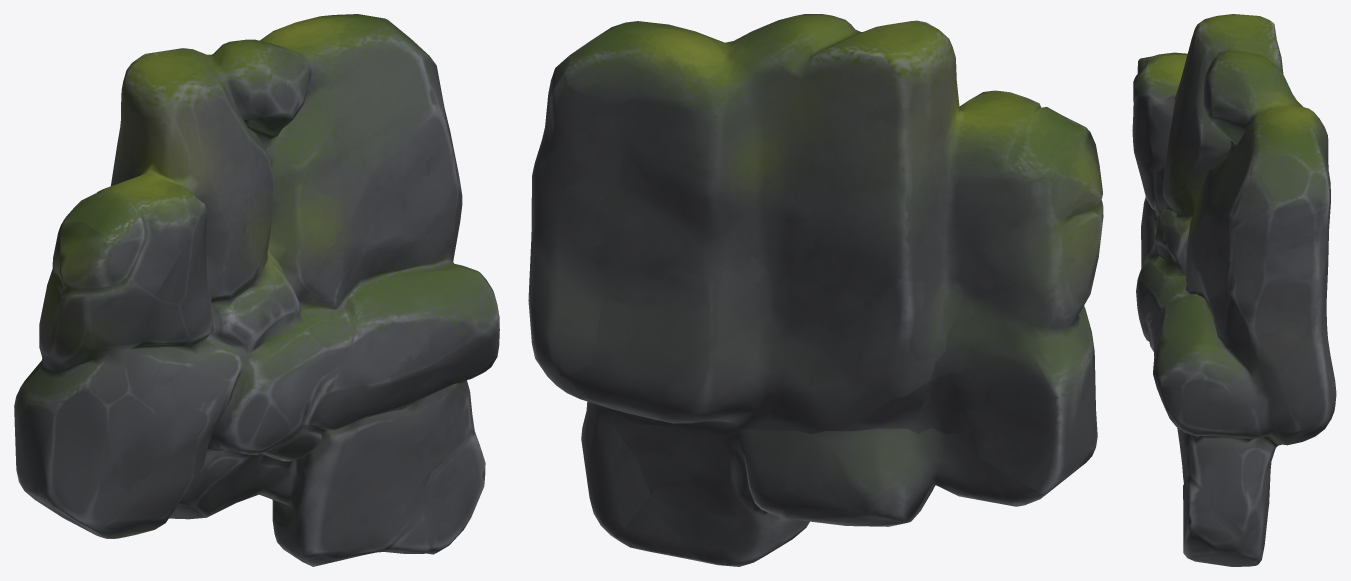
Rendered from Stonewall01.fbx.
3 renders of one model, left to right at view 1: azimuth 30°, elevation 25°; view 2: azimuth 150°, elevation 25°; view 3: azimuth 270°, elevation 25°, orthographic. The views are drawn at different scales.
Visible parts, largest first — view 1: Stonewall01; view 2: Stonewall01; view 3: Stonewall01.
Boxes of the visible parts, x1=… form: Stonewall01: x1=14, y1=14, x2=499, y2=566; Stonewall01: x1=528, y1=14, x2=1103, y2=566; Stonewall01: x1=1132, y1=14, x2=1336, y2=566.
Bounding box in the file's own units: 180 × 200 × 82.56.
Materials: 1 (1 with a texture image).
